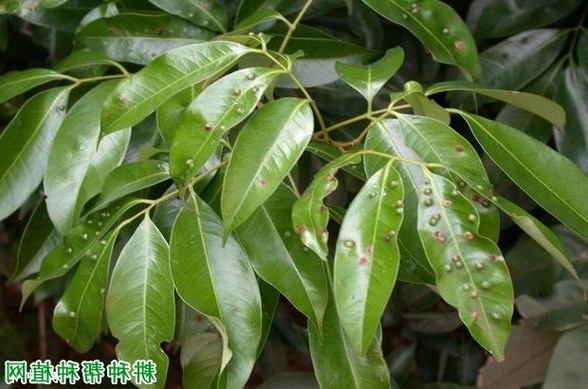Gall_Mite: (27, 200, 131, 335), (178, 59, 283, 187), (434, 146, 497, 337), (332, 154, 425, 260), (382, 2, 477, 77)
